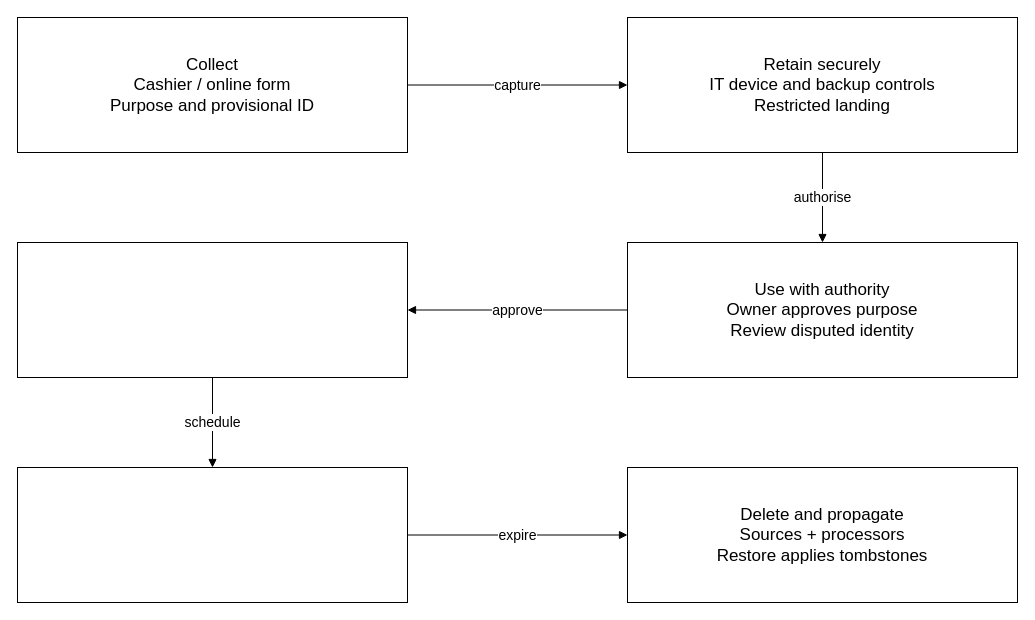
This 1035x620 diagram has some shape labels left out. The centre of each missing label's shape, as x and y in pixels:
"Archive with expiry Owner sets schedule IT restricts recovery" belongs at pixel 212 534.
"Share minimum fields DPO + procurement Terms and destination" belongs at pixel 212 310.
